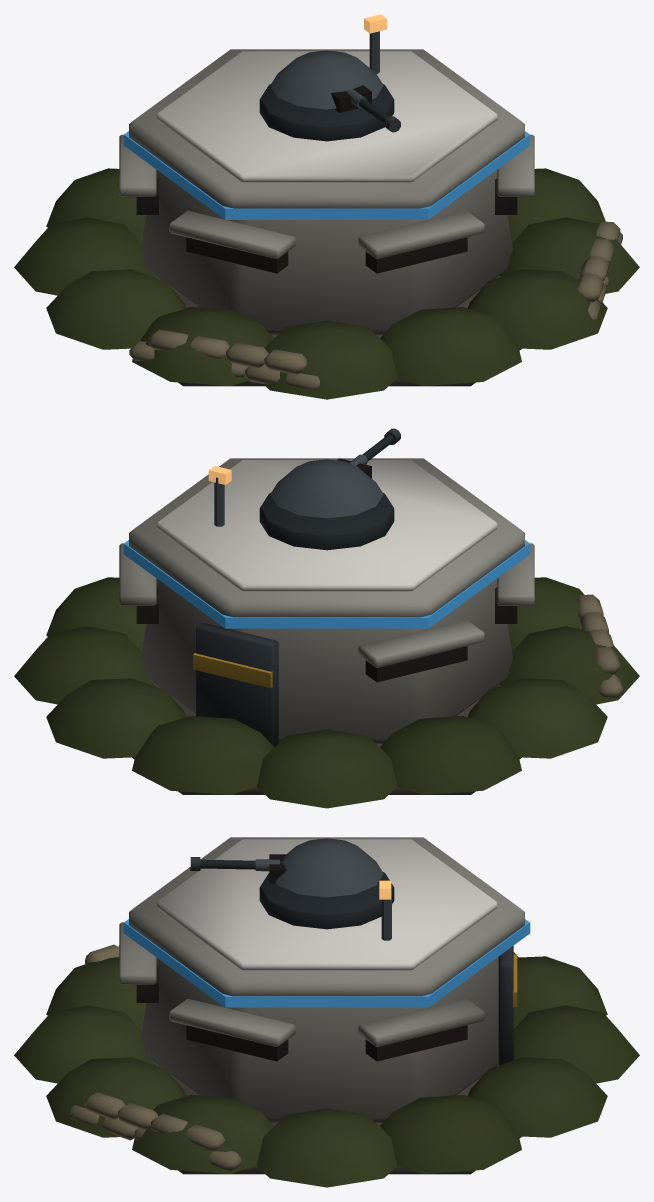
Rendered from bunker.glb.
The picture shows the model from 3 angles, top to bottom: view 1: azimuth 30°, elevation 25°; view 2: azimuth 150°, elevation 25°; view 3: azimuth 270°, elevation 25°; orthographic projection.
Parts seen in each view (by area): view 1: bunker_root_matte, bunker_root_trim, bunker_root_metal, bunker_turret_metal, bunker_barrel_metal, bunker_turret_matte; view 2: bunker_root_matte, bunker_root_metal, bunker_root_trim, bunker_turret_metal, bunker_barrel_metal; view 3: bunker_root_matte, bunker_root_metal, bunker_root_trim, bunker_turret_metal, bunker_barrel_metal.
Boxes of the visible parts, x1=… form: bunker_root_matte: x1=14, y1=49, x2=639, y2=399; bunker_root_trim: x1=123, y1=131, x2=530, y2=219; bunker_root_metal: x1=259, y1=31, x2=394, y2=141; bunker_turret_metal: x1=270, y1=50, x2=383, y2=109; bunker_barrel_metal: x1=346, y1=89, x2=400, y2=132; bunker_turret_matte: x1=331, y1=85, x2=371, y2=112; bunker_root_matte: x1=14, y1=458, x2=639, y2=808; bunker_root_metal: x1=196, y1=477, x2=394, y2=746; bunker_root_trim: x1=123, y1=540, x2=530, y2=628; bunker_turret_metal: x1=270, y1=459, x2=383, y2=518; bunker_barrel_metal: x1=349, y1=428, x2=400, y2=465; bunker_root_matte: x1=14, y1=837, x2=639, y2=1187; bunker_root_metal: x1=259, y1=872, x2=513, y2=1065; bunker_root_trim: x1=123, y1=919, x2=530, y2=1007; bunker_turret_metal: x1=275, y1=838, x2=383, y2=897; bunker_barrel_metal: x1=190, y1=857, x2=282, y2=871.
Size of the model in its own units: 8.38 by 3.3 by 8.38.
